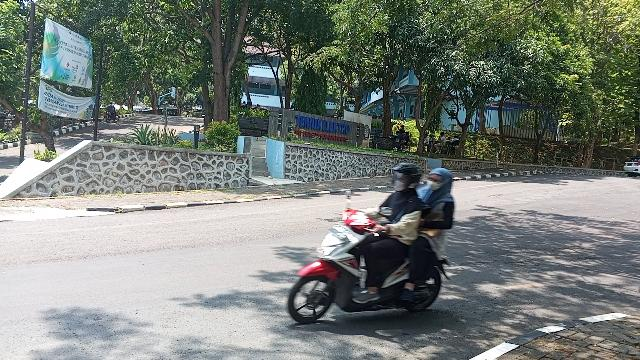helm: (392, 163, 425, 196)
motor: (288, 190, 453, 327)
non-helm: (426, 169, 454, 196)
